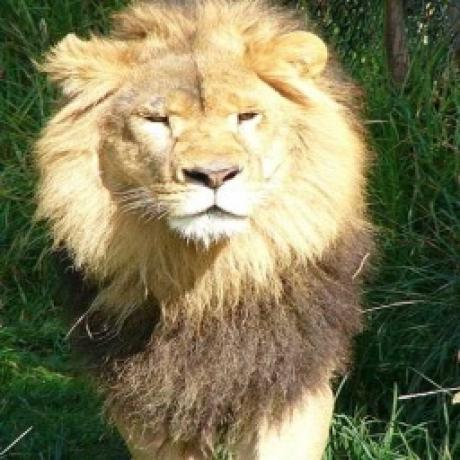Lion: (34, 0, 380, 460)
